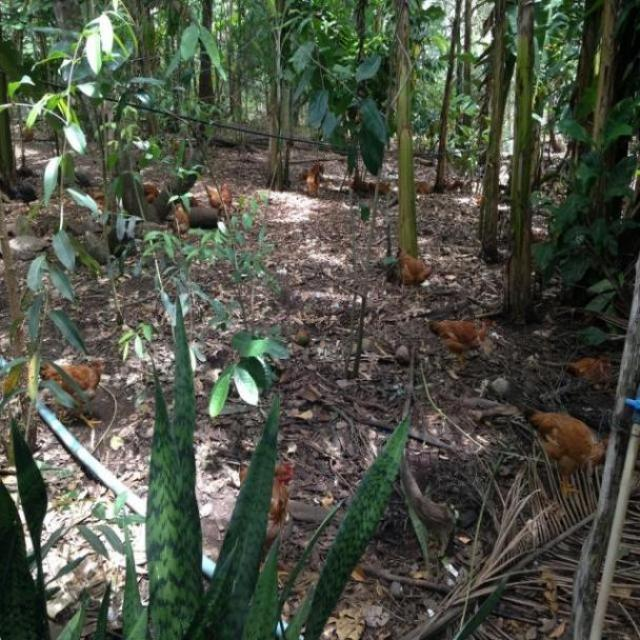Chicken: (515, 402, 605, 495), (238, 461, 295, 591), (32, 357, 106, 433), (425, 318, 498, 369), (396, 242, 439, 300), (562, 355, 615, 393), (13, 176, 40, 217), (68, 166, 94, 197), (217, 177, 236, 218), (172, 200, 190, 243), (203, 184, 225, 219), (304, 165, 320, 201), (137, 184, 159, 206), (530, 231, 549, 256), (18, 123, 38, 146), (365, 181, 391, 196), (182, 193, 200, 211), (384, 168, 403, 185), (298, 167, 314, 187), (415, 178, 430, 199), (440, 176, 454, 198), (349, 170, 362, 193), (168, 134, 181, 153), (313, 158, 326, 177), (450, 177, 465, 189), (129, 161, 144, 171), (473, 193, 481, 211), (288, 132, 294, 150)
